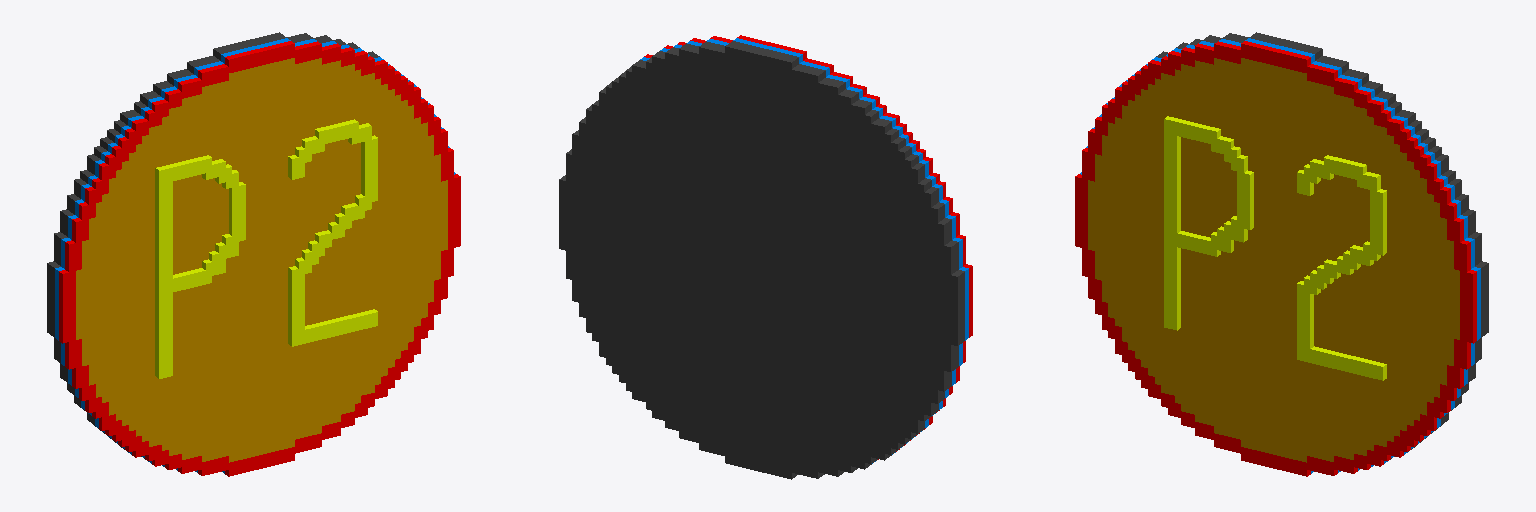
The picture shows the model from 3 angles: view 1: azimuth 30°, elevation 25°; view 2: azimuth 150°, elevation 25°; view 3: azimuth 330°, elevation 25°; orthographic projection.
Size of the model in its own units: 60 by 60 by 5.
1 materials, 1 textured.